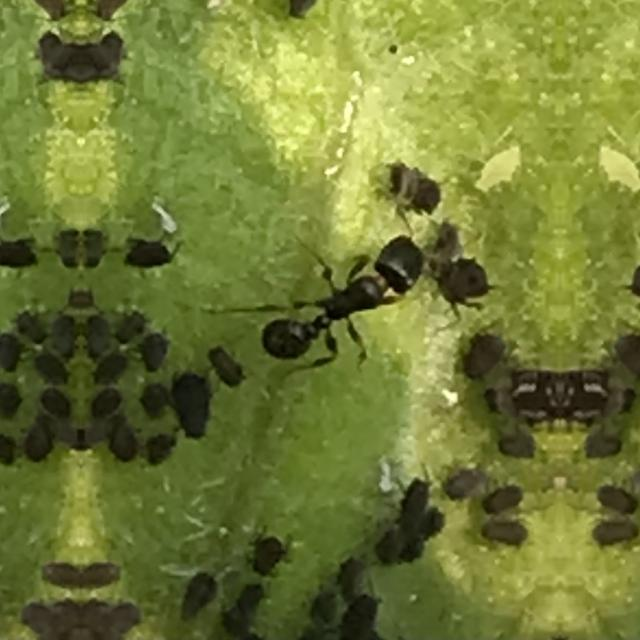Tetramorium: (256, 207, 446, 367)
